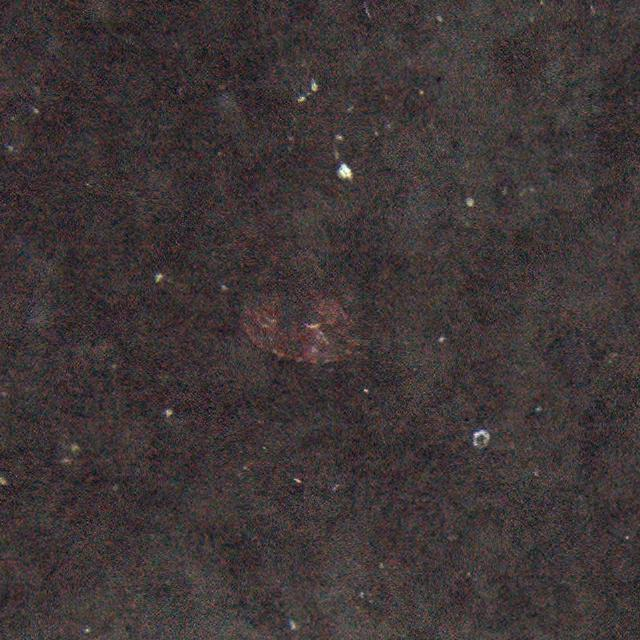crab: (224, 264, 364, 368)
